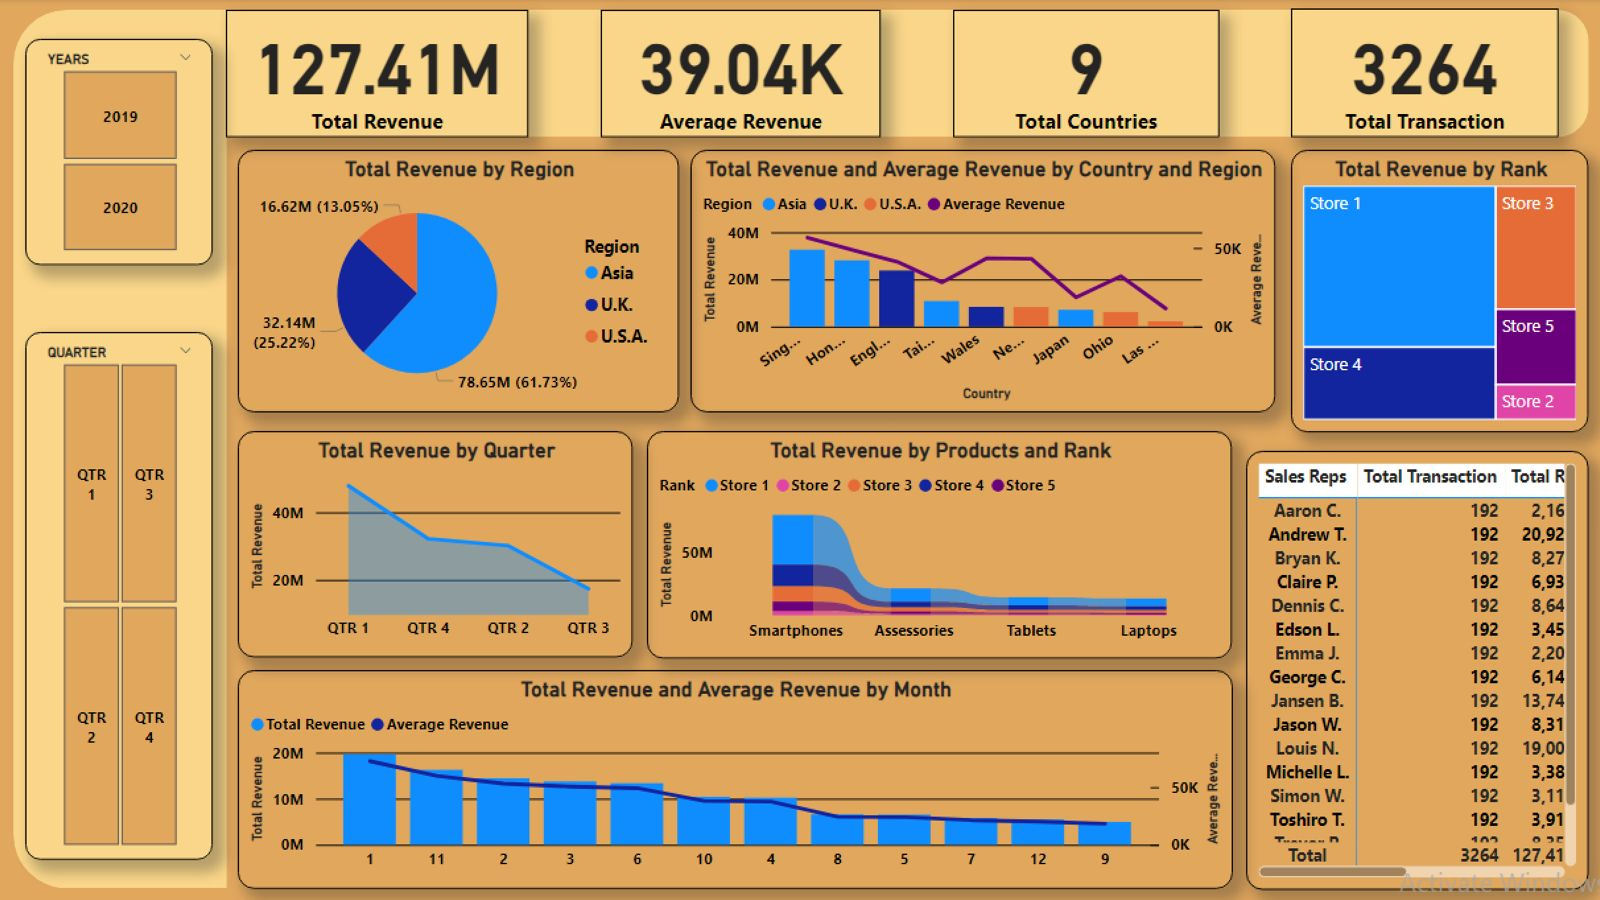

What the dashboard file says about the page in this screenshot:
{"tool":"powerbi","page":{"name":"Page 1","canvas":[1280,720],"ordinal":0},"visuals":[{"type":"shape","box":[10.2,8.9,170.8,702.5],"z":0},{"type":"shape","box":[167,8.9,1104.1,102],"z":1000},{"type":"card","fields":{"Values":["Measures (2).Total Revenue"]},"box":[181,8.9,242.2,102],"z":2000},{"type":"card","fields":{"Values":["Measures (2).Average Revenue"]},"box":[480.6,8.9,224.4,102],"z":3000},{"type":"card","fields":{"Values":["Measures (2).Total Country"]},"box":[762.4,8.9,212.9,102],"z":4000},{"type":"card","fields":{"Values":["Measures (2).Total Transaction"]},"box":[1032.7,7.6,214.2,103.3],"z":5000},{"type":"pieChart","fields":{"Y":["Measures (2).Total Revenue"],"Category":["Sheet1.Region"]},"box":[190,119.8,353.1,210.4],"z":6000},{"type":"lineStackedColumnComboChart","fields":{"Category":["Sheet1.Country"],"Y":["Measures (2).Total Revenue"],"Y2":["Measures (2).Average Revenue"],"Series":["Sheet1.Region"]},"box":[552,119.8,467.9,210.4],"z":7000},{"type":"treemap","fields":{"Values":["Measures (2).Total Revenue"],"Group":["Sheet1.Rank"]},"box":[1032.7,119.8,238.4,225.7],"z":8000},{"type":"areaChart","fields":{"Y":["Measures (2).Total Revenue"],"Category":["Sheet1.Quarter"]},"box":[190,345.5,316.2,181],"z":9000},{"type":"ribbonChart","fields":{"Category":["Sheet1.Products"],"Y":["Measures (2).Total Revenue"],"Series":["Sheet1.Rank"]},"box":[517.6,345.5,467.9,182.3],"z":10000},{"type":"pivotTable","fields":{"Rows":["Sheet1.Sales Reps"],"Values":["Measures (2).Total Transaction","Measures (2).Total Revenue","Measures (2).Average Revenue"]},"box":[997,360.8,274.1,350.6],"z":11000},{"type":"lineStackedColumnComboChart","fields":{"Y":["Measures (2).Total Revenue"],"Y2":["Measures (2).Average Revenue"],"Category":["Sheet1.Month"]},"box":[190,536.7,795.5,174.7],"z":12000},{"type":"slicer","fields":{"Values":["Sheet1.Years"]},"box":[20.4,31.9,150.4,181],"z":12001},{"type":"slicer","fields":{"Values":["Sheet1.Quarter"]},"box":[20.4,266.5,150.4,422],"z":12002}]}

Visuals, with their boxes in screenshot pixels (x1, y1, x2, y2), scaled from the page's 1280x720 canvas onto the 1600x900 screenshot:
shape: (x1=13, y1=11, x2=226, y2=889)
shape: (x1=209, y1=11, x2=1589, y2=139)
card - Measures (2).Total Revenue: (x1=226, y1=11, x2=529, y2=139)
card - Measures (2).Average Revenue: (x1=601, y1=11, x2=881, y2=139)
card - Measures (2).Total Country: (x1=953, y1=11, x2=1219, y2=139)
card - Measures (2).Total Transaction: (x1=1291, y1=10, x2=1559, y2=139)
pieChart - Measures (2).Total Revenue x Sheet1.Region: (x1=238, y1=150, x2=679, y2=413)
lineStackedColumnComboChart - Sheet1.Country x Measures (2).Total Revenue: (x1=690, y1=150, x2=1275, y2=413)
treemap - Measures (2).Total Revenue x Sheet1.Rank: (x1=1291, y1=150, x2=1589, y2=432)
areaChart - Measures (2).Total Revenue x Sheet1.Quarter: (x1=238, y1=432, x2=633, y2=658)
ribbonChart - Sheet1.Products x Measures (2).Total Revenue: (x1=647, y1=432, x2=1232, y2=660)
pivotTable - Sheet1.Sales Reps x Measures (2).Total Transaction: (x1=1246, y1=451, x2=1589, y2=889)
lineStackedColumnComboChart - Measures (2).Total Revenue x Measures (2).Average Revenue: (x1=238, y1=671, x2=1232, y2=889)
slicer - Sheet1.Years: (x1=26, y1=40, x2=214, y2=266)
slicer - Sheet1.Quarter: (x1=26, y1=333, x2=214, y2=861)
